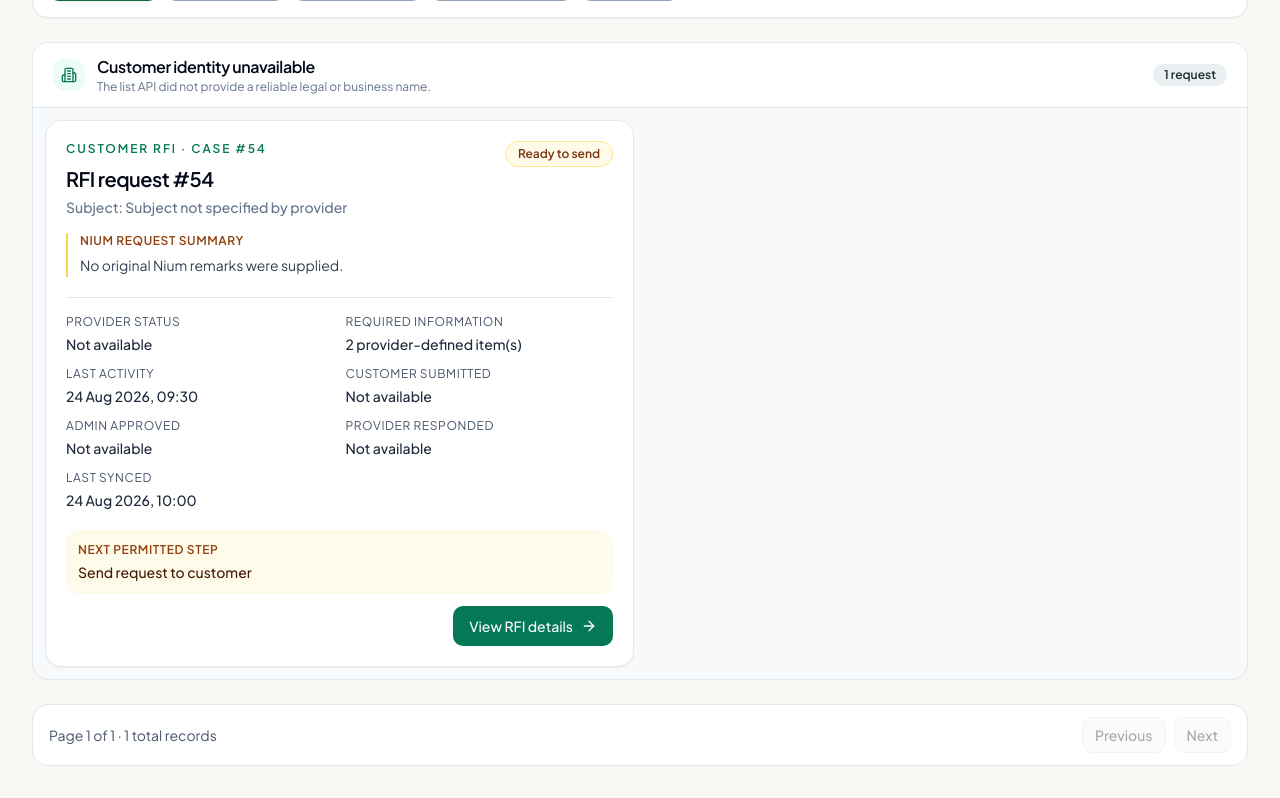
Test: does not classify malformed requirements as document-only
(page scrolled)
Click the button "View RFI details" at (533, 626), box [453,606,613,646]
(page scrolled)
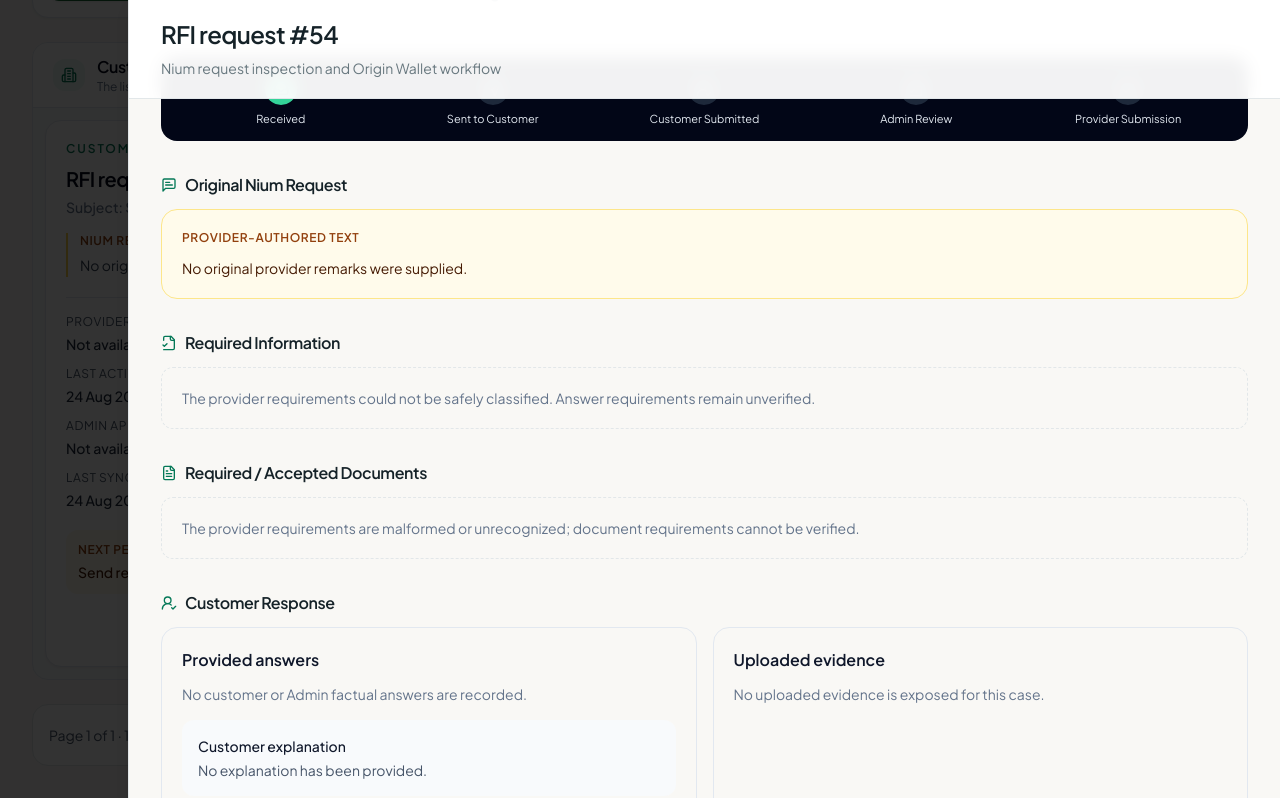
Now the text "requirements could not be safely classified" is shown, box [182,389,815,407]
